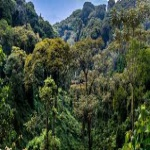Uncultivated: (4, 24, 145, 141)
